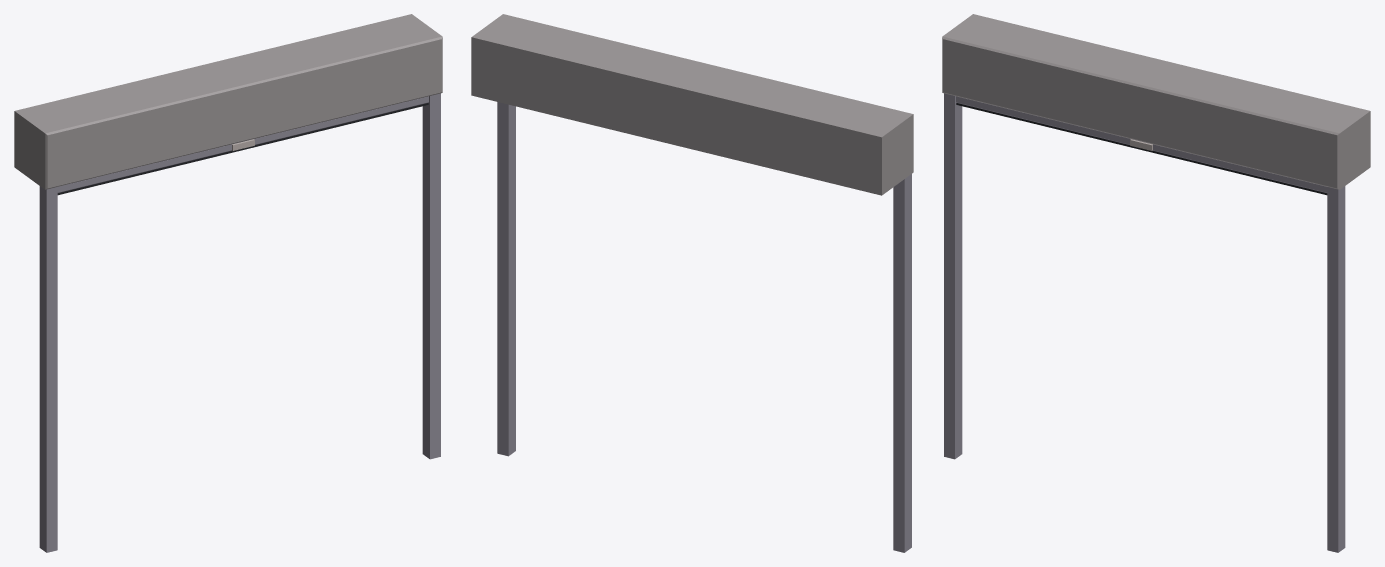
File: SM_Opening_Garage25_Open_01.gltf
3 renders of one model, left to right at view 1: azimuth 30°, elevation 25°; view 2: azimuth 150°, elevation 25°; view 3: azimuth 330°, elevation 25°, orthographic. The views are drawn at different scales.
Visible parts, largest first — view 1: SM_Opening_Garage25_Open_01; view 2: SM_Opening_Garage25_Open_01; view 3: SM_Opening_Garage25_Open_01.
Boxes of the visible parts, x1,y1,x2,y2 form: SM_Opening_Garage25_Open_01: (14, 14, 442, 552); SM_Opening_Garage25_Open_01: (471, 14, 913, 552); SM_Opening_Garage25_Open_01: (942, 14, 1370, 552).
Bounding box in the file's own units: 2.54 × 2.57 × 0.35.
1 material, 1 textured.
